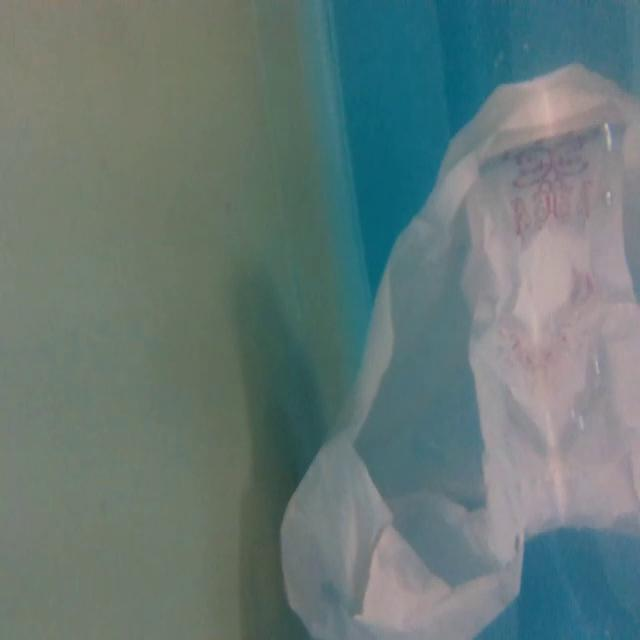plastic bags: (273, 51, 640, 638)
